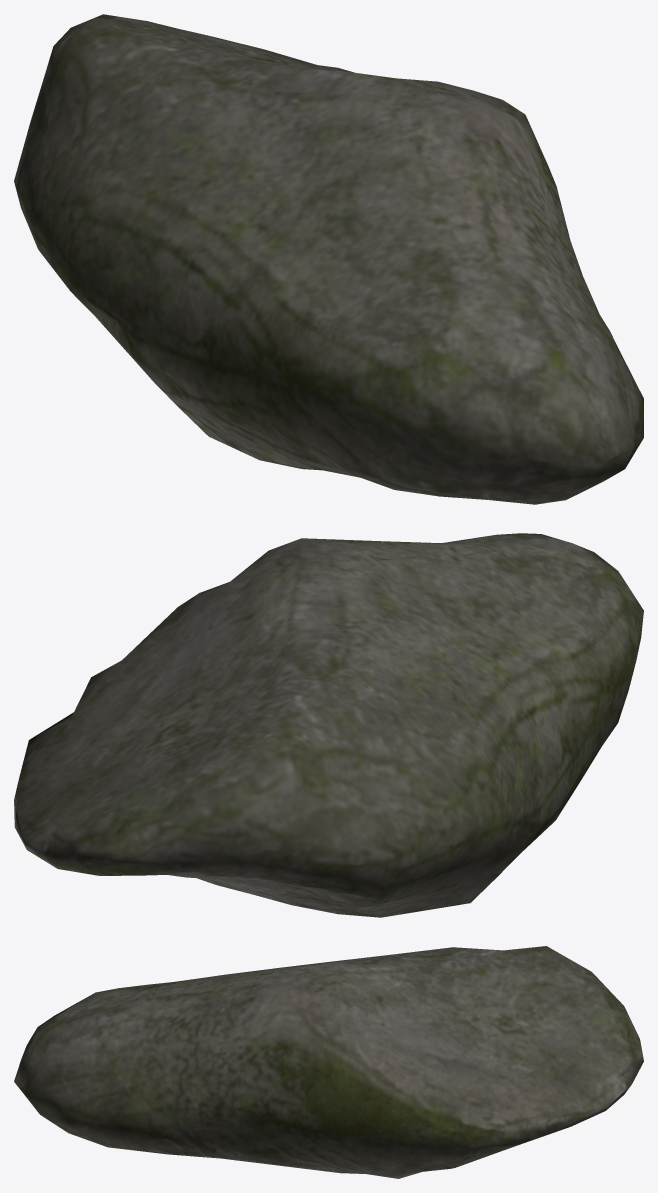
File: rock5.glb
3 renders of one model, top to bottom at view 1: azimuth 30°, elevation 25°; view 2: azimuth 150°, elevation 25°; view 3: azimuth 270°, elevation 25°, orthographic. The views are drawn at different scales.
Parts seen in each view (by area): view 1: rock5_low_rocks_texture_0; view 2: rock5_low_rocks_texture_0; view 3: rock5_low_rocks_texture_0.
Boxes of the visible parts, left/top/right/bottom form: rock5_low_rocks_texture_0: left=14, top=14, right=643, bottom=504; rock5_low_rocks_texture_0: left=14, top=533, right=643, bottom=917; rock5_low_rocks_texture_0: left=14, top=946, right=643, bottom=1178.
Bounding box in the file's own units: 0.9311 × 0.6285 × 1.69.
Materials: 1 (1 with a texture image).
